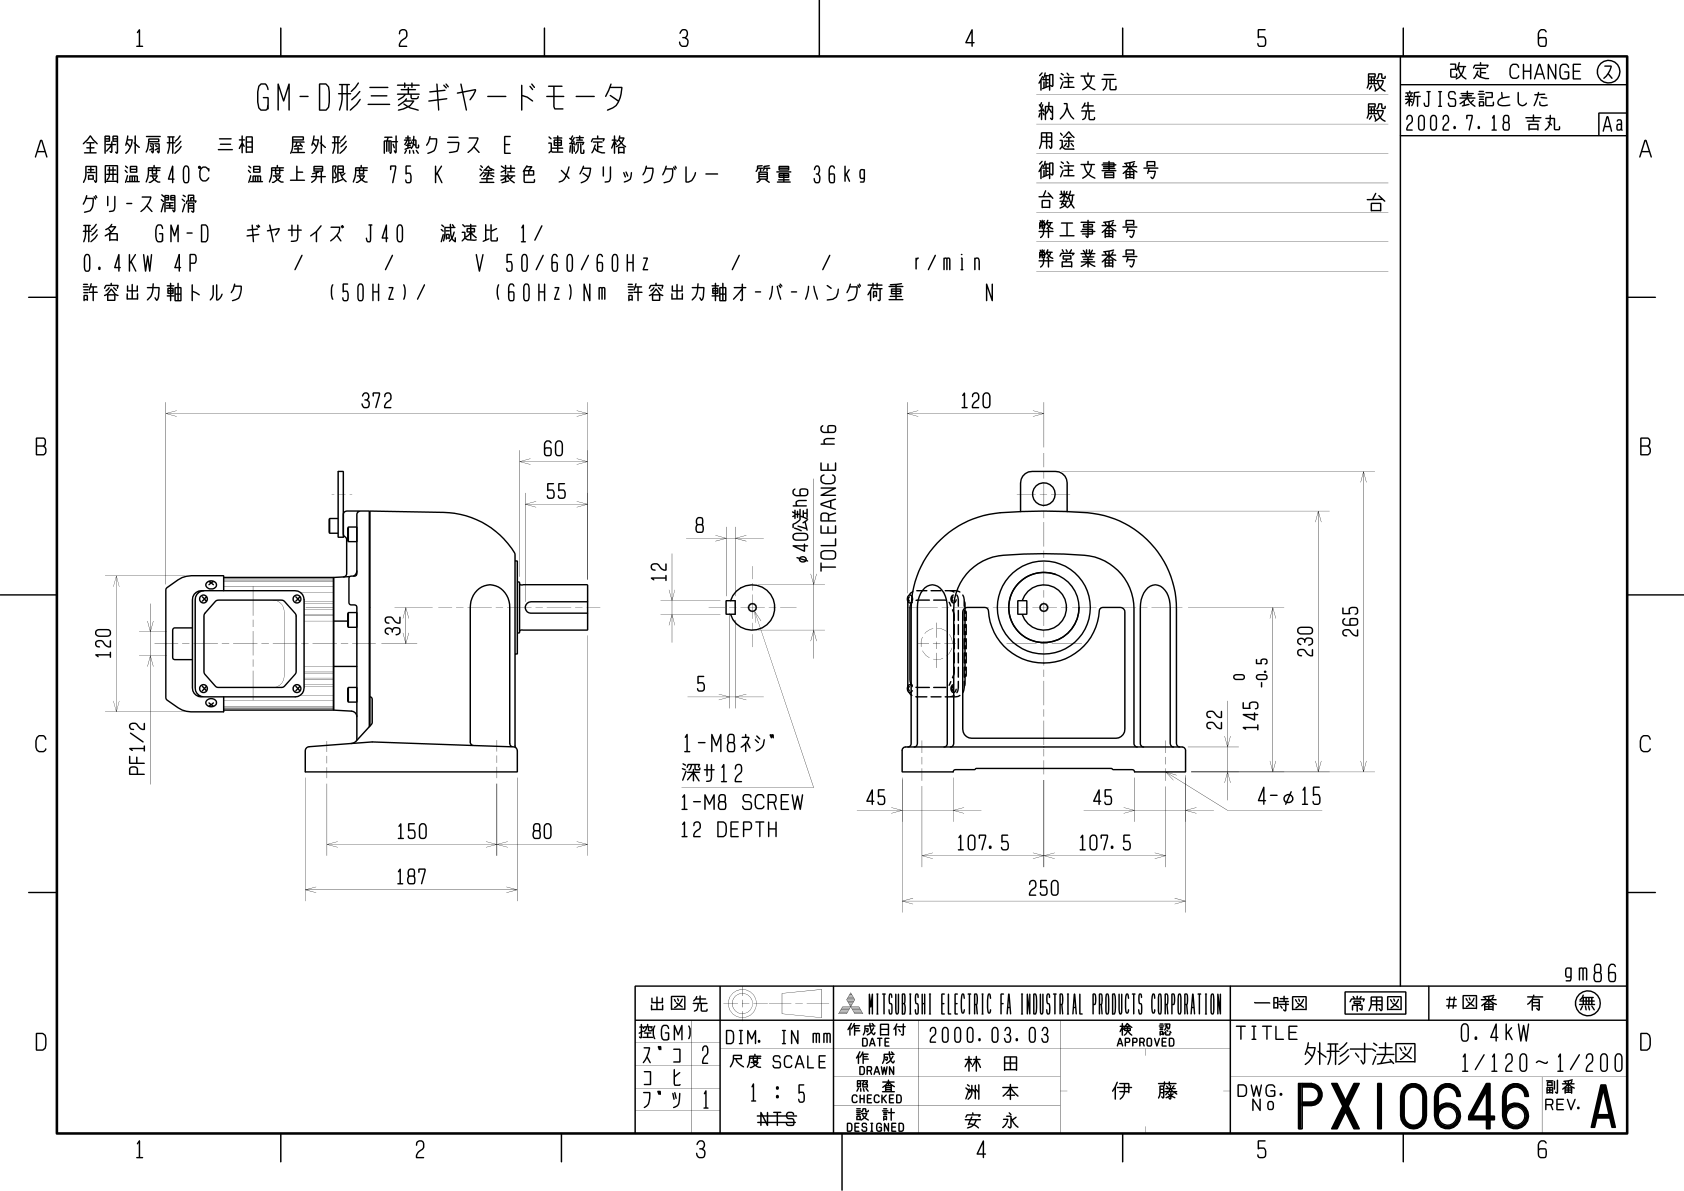GM_D_屋外＿三相_脚: (71, 347, 1385, 944)
